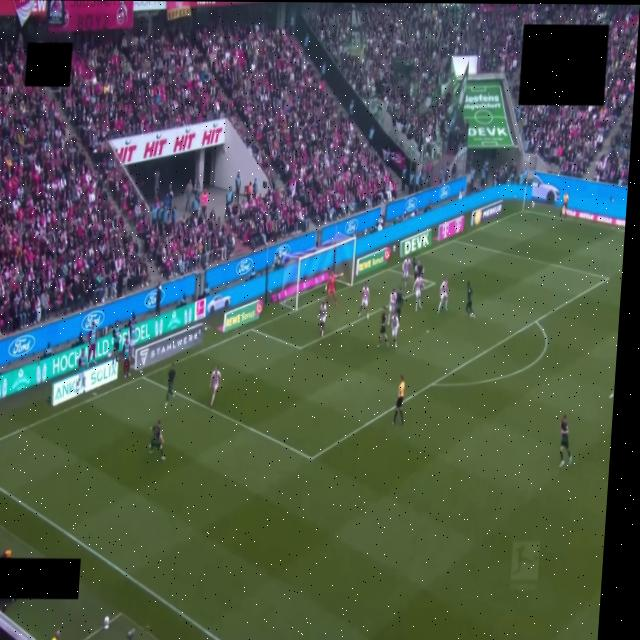player: (149, 420, 165, 460), (560, 415, 572, 467), (326, 273, 342, 306), (165, 364, 175, 406), (210, 366, 220, 407), (378, 307, 388, 347), (358, 283, 369, 318), (438, 277, 448, 313), (413, 276, 423, 311), (402, 257, 411, 289), (318, 302, 326, 338), (466, 282, 474, 318), (391, 314, 399, 347), (388, 290, 396, 320), (395, 289, 402, 320), (415, 259, 423, 277), (412, 257, 418, 281), (610, 391, 613, 398)
referee: (393, 375, 405, 425)
